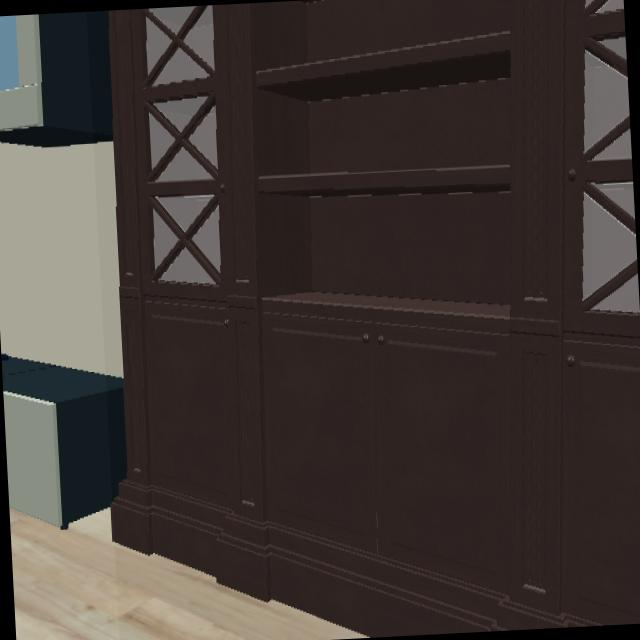bookshelf: (109, 0, 640, 637)
